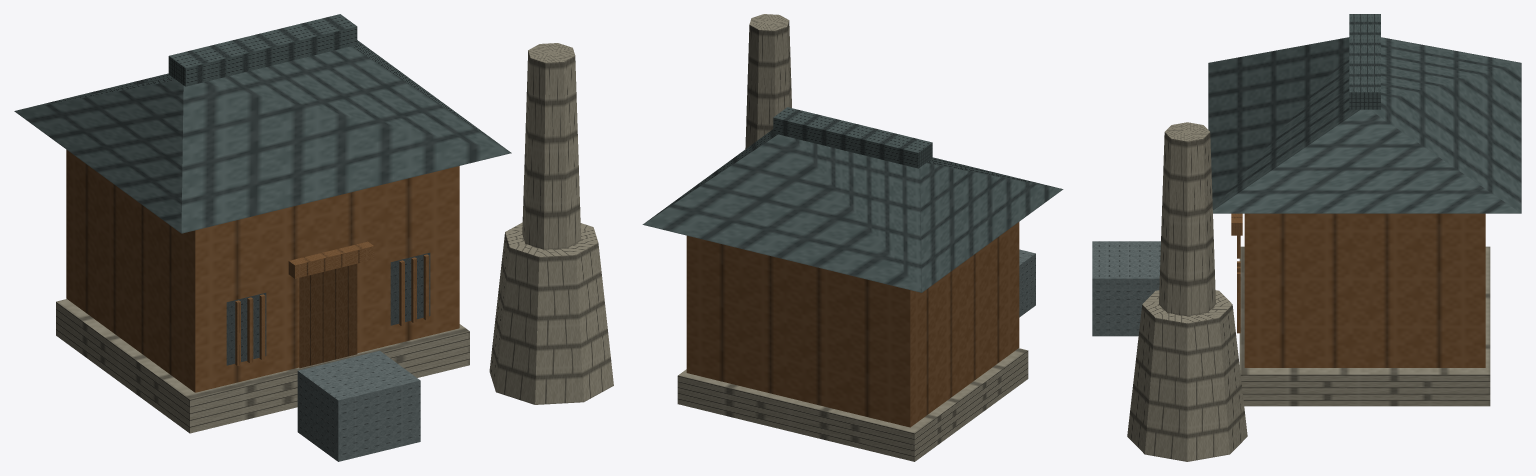
Rendered from domestic-SMITH-1-lod1.glb.
The picture shows the model from 3 angles, left to right: view 1: azimuth 30°, elevation 25°; view 2: azimuth 150°, elevation 25°; view 3: azimuth 270°, elevation 25°; orthographic projection. The views are drawn at different scales.
Size of the model in its own units: 0.7063 by 0.53 by 0.677.
1 material, 1 textured.
